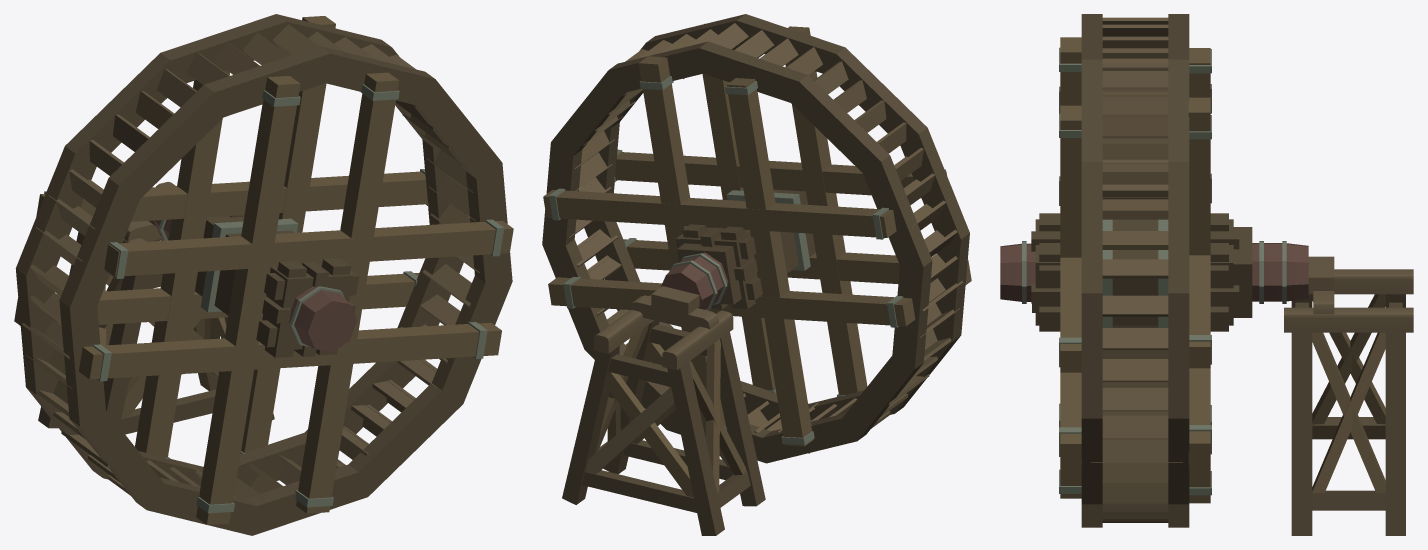
Rendered from water mill_final.fbx.
3 views of the same model, side by side, from view 1: azimuth 30°, elevation 25°; view 2: azimuth 150°, elevation 25°; view 3: azimuth 270°, elevation 25° (orthographic). The views are drawn at different scales.
Parts seen in each view (by area): view 1: polySurface122, polySurface143, polySurface188, polySurface205, polySurface215, pCylinder19, polySurface156, polySurface218, pCylinder18, polySurface229; view 2: polySurface122, polySurface143, polySurface215, polySurface188, polySurface218, polySurface229, polySurface205, polySurface156, pCylinder19, polySurface236, pCylinder18; view 3: polySurface188, polySurface143, polySurface122, polySurface215, polySurface205, polySurface218, polySurface229, pCylinder19, polySurface156, pCylinder18.
Boxes of the visible parts, x1,y1,x2,y2 form: polySurface122: [14, 16, 513, 524]; polySurface143: [15, 14, 512, 535]; polySurface188: [22, 24, 479, 499]; polySurface205: [195, 215, 358, 357]; polySurface215: [38, 232, 274, 434]; pCylinder19: [154, 219, 357, 352]; polySurface156: [44, 84, 504, 513]; polySurface218: [98, 240, 226, 417]; pCylinder18: [159, 218, 344, 346]; polySurface229: [122, 182, 175, 243]; polySurface122: [543, 23, 971, 446]; polySurface143: [542, 14, 969, 463]; polySurface215: [562, 320, 765, 535]; polySurface188: [568, 23, 963, 453]; polySurface218: [595, 324, 746, 497]; polySurface229: [594, 286, 733, 370]; polySurface205: [675, 189, 815, 309]; polySurface156: [549, 76, 945, 445]; pCylinder19: [661, 252, 728, 309]; polySurface236: [585, 387, 674, 473]; pCylinder18: [670, 190, 810, 310]; polySurface188: [1091, 17, 1182, 522]; polySurface143: [1081, 14, 1189, 527]; polySurface122: [1060, 37, 1210, 503]; polySurface215: [1291, 294, 1405, 535]; polySurface205: [1031, 213, 1252, 331]; polySurface218: [1312, 294, 1385, 493]; polySurface229: [1284, 256, 1413, 332]; pCylinder19: [1000, 243, 1308, 301]; polySurface156: [1059, 47, 1211, 495]; pCylinder18: [1022, 219, 1286, 327].
Size of the model in its own units: 9.97 by 9.97 by 8.12.
